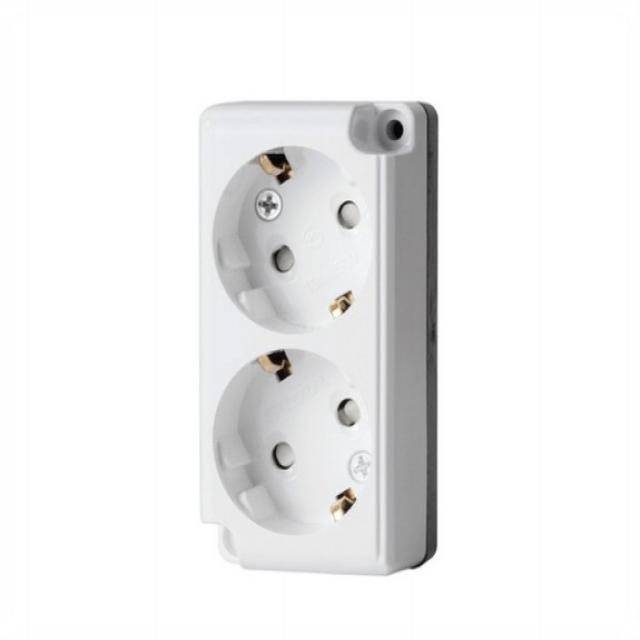typeb: (192, 79, 478, 627)
